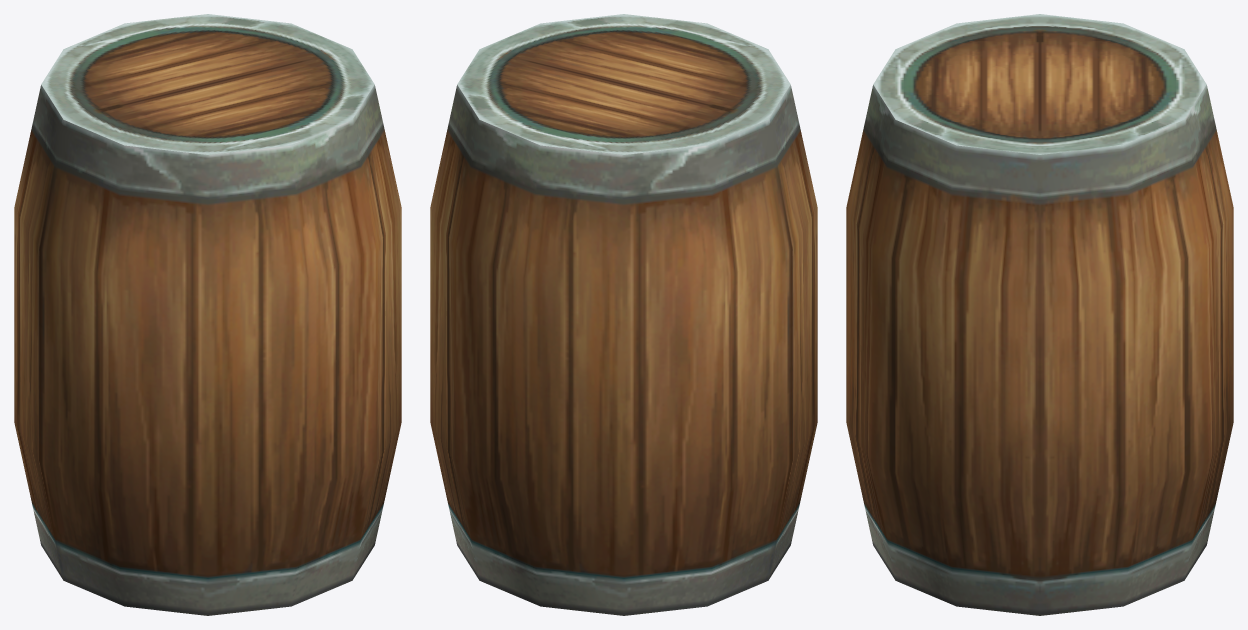
File: Barrel_01.FBX
3 views of the same model, side by side, from view 1: azimuth 30°, elevation 25°; view 2: azimuth 150°, elevation 25°; view 3: azimuth 270°, elevation 25° (orthographic).
Visible parts, largest first — view 1: Barrel_01; view 2: Barrel_01; view 3: Barrel_01.
Boxes of the visible parts, x1,y1,x2,y2 form: Barrel_01: (14, 14, 401, 615); Barrel_01: (430, 14, 817, 615); Barrel_01: (846, 14, 1233, 615).
Size of the model in its own units: 72.15 by 72.15 by 94.67.
